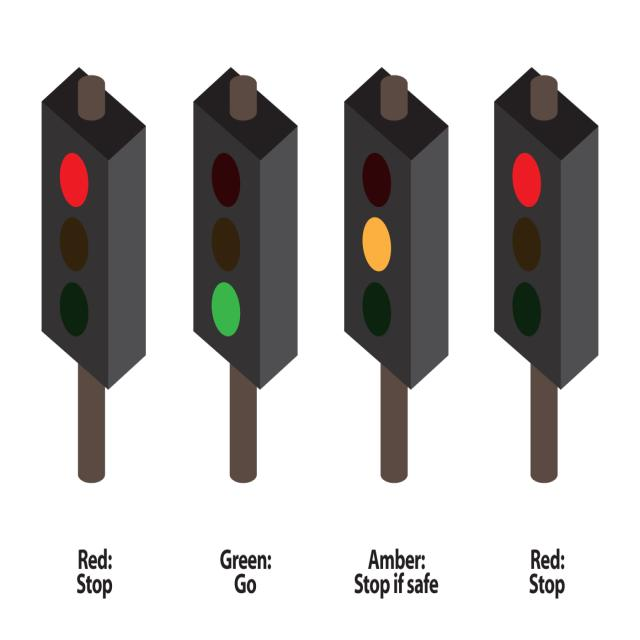green-lights: (207, 276, 243, 340)
red-lights: (511, 150, 544, 212), (58, 148, 89, 210)
yellow-lights: (362, 214, 394, 275)
